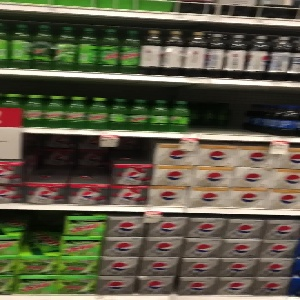void: (191, 88, 272, 133)
